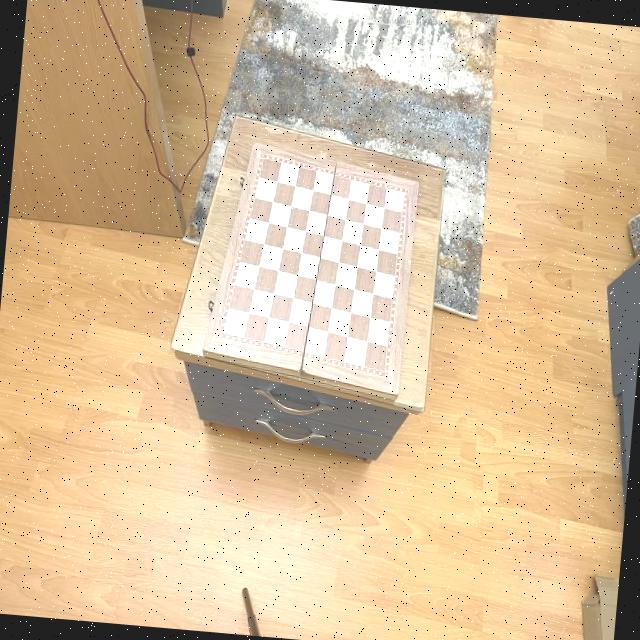corners: (198, 336, 218, 358), (244, 138, 270, 154), (411, 174, 428, 194), (386, 386, 402, 401)
